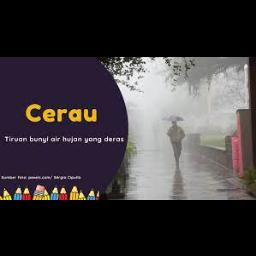c: (21, 98, 43, 122)
